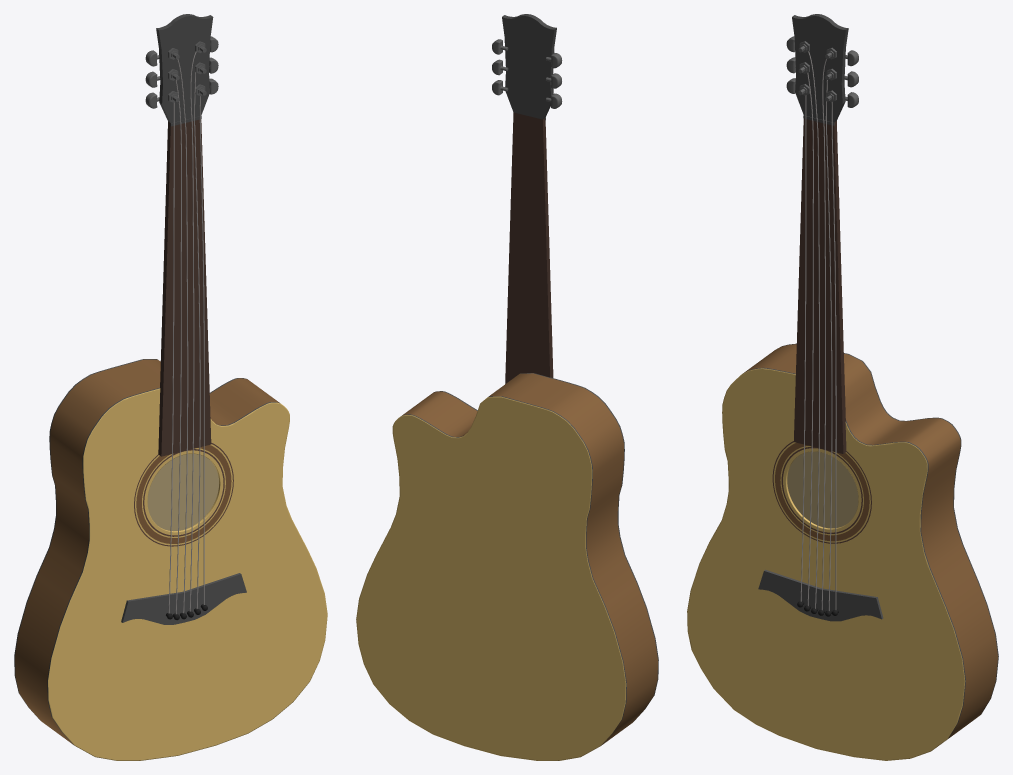
The model's file is asset.glb.
3 renders of one model, left to right at view 1: azimuth 30°, elevation 25°; view 2: azimuth 150°, elevation 25°; view 3: azimuth 330°, elevation 25°, orthographic. The views are drawn at different scales.
Visible parts, largest first — view 1: guitar_base, guitar_handle, guitar_strings, guitar_cable fixing base, guitar_adjust strings, guitar_freeze strings; view 2: guitar_base, guitar_handle, guitar_adjust strings; view 3: guitar_base, guitar_handle, guitar_strings, guitar_cable fixing base, guitar_adjust strings, guitar_freeze strings.
Boxes of the visible parts, <box> form: guitar_base: <box>14,359,327,760</box>; guitar_handle: <box>156,14,213,456</box>; guitar_strings: <box>168,51,204,614</box>; guitar_cable fixing base: <box>121,573,246,624</box>; guitar_adjust strings: <box>145,36,218,108</box>; guitar_freeze strings: <box>168,41,206,102</box>; guitar_base: <box>356,373,658,760</box>; guitar_handle: <box>502,14,556,383</box>; guitar_adjust strings: <box>492,39,562,108</box>; guitar_base: <box>687,343,998,760</box>; guitar_handle: <box>792,14,848,453</box>; guitar_strings: <box>800,51,836,610</box>; guitar_cable fixing base: <box>758,569,883,621</box>; guitar_adjust strings: <box>786,36,858,107</box>; guitar_freeze strings: <box>798,41,836,102</box>.
Size of the model in its own units: 0.3774 by 0.954 by 0.0976.
